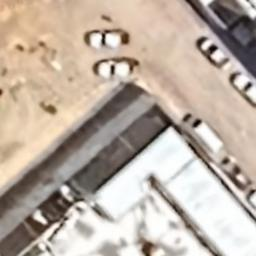SUV: (200, 37, 232, 70), (86, 27, 124, 49), (95, 57, 131, 78)
truck: (184, 112, 222, 154)
van: (230, 74, 256, 106)
